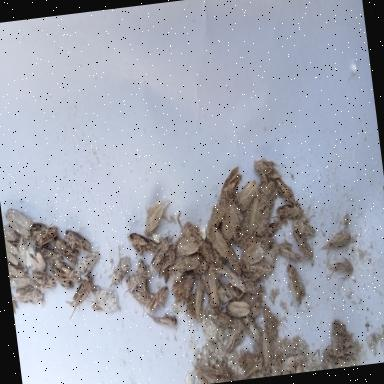pbw: (139, 194, 175, 236), (124, 216, 160, 258), (100, 253, 135, 294), (250, 192, 282, 236), (153, 239, 182, 285), (120, 286, 160, 319), (146, 228, 178, 268), (210, 164, 244, 200), (1, 204, 34, 241), (176, 208, 202, 250), (80, 284, 118, 312), (314, 226, 354, 252), (122, 261, 156, 291), (292, 225, 316, 267), (286, 260, 307, 308), (218, 203, 243, 243), (218, 258, 248, 291), (204, 222, 230, 260), (50, 232, 78, 267), (60, 223, 92, 253), (232, 178, 260, 211), (269, 197, 305, 222), (142, 284, 172, 314), (238, 238, 268, 268), (240, 309, 264, 346), (244, 196, 266, 236), (176, 258, 212, 282), (252, 154, 282, 182), (276, 241, 308, 267), (272, 174, 296, 208), (221, 320, 245, 354), (74, 250, 103, 278), (200, 237, 226, 268), (244, 284, 266, 320), (169, 273, 197, 301), (324, 256, 354, 282), (205, 263, 221, 311), (172, 231, 202, 256), (144, 306, 178, 328), (258, 328, 275, 372), (190, 278, 206, 324), (255, 180, 278, 212), (191, 357, 218, 384), (225, 242, 244, 280), (212, 272, 232, 308), (30, 266, 57, 292), (204, 199, 228, 228), (50, 262, 74, 290), (241, 352, 265, 379), (261, 303, 278, 341), (209, 304, 235, 328), (176, 251, 202, 275), (136, 256, 150, 300), (12, 235, 34, 262), (36, 242, 64, 263), (328, 315, 343, 353), (224, 298, 250, 316), (280, 352, 306, 370), (4, 237, 20, 266), (26, 249, 46, 272), (292, 219, 316, 238), (9, 273, 34, 290), (292, 209, 312, 228), (7, 262, 30, 278), (30, 220, 48, 238), (202, 274, 212, 302), (332, 356, 352, 368), (15, 284, 29, 296)
